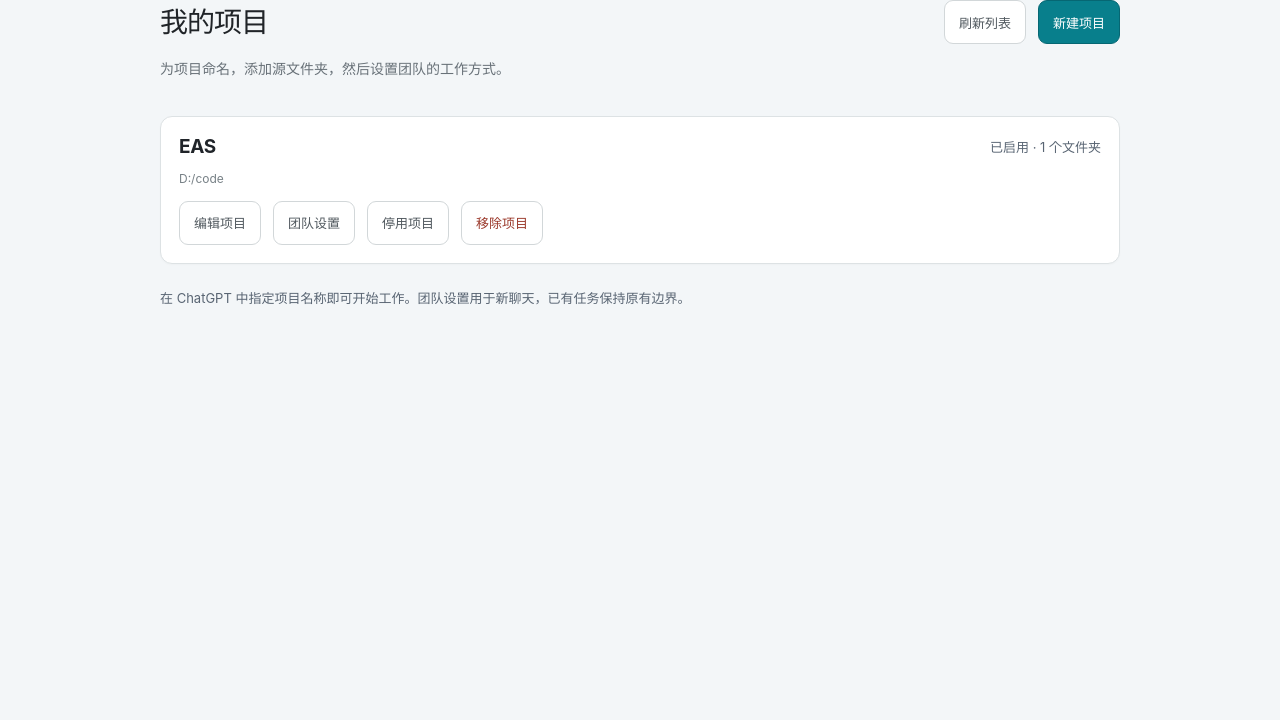
Test case: requires fresh observation after a rejected save and does not automatically retry
Step 1. Click the button "编辑项目" → (220, 223), box [179,201,261,245]
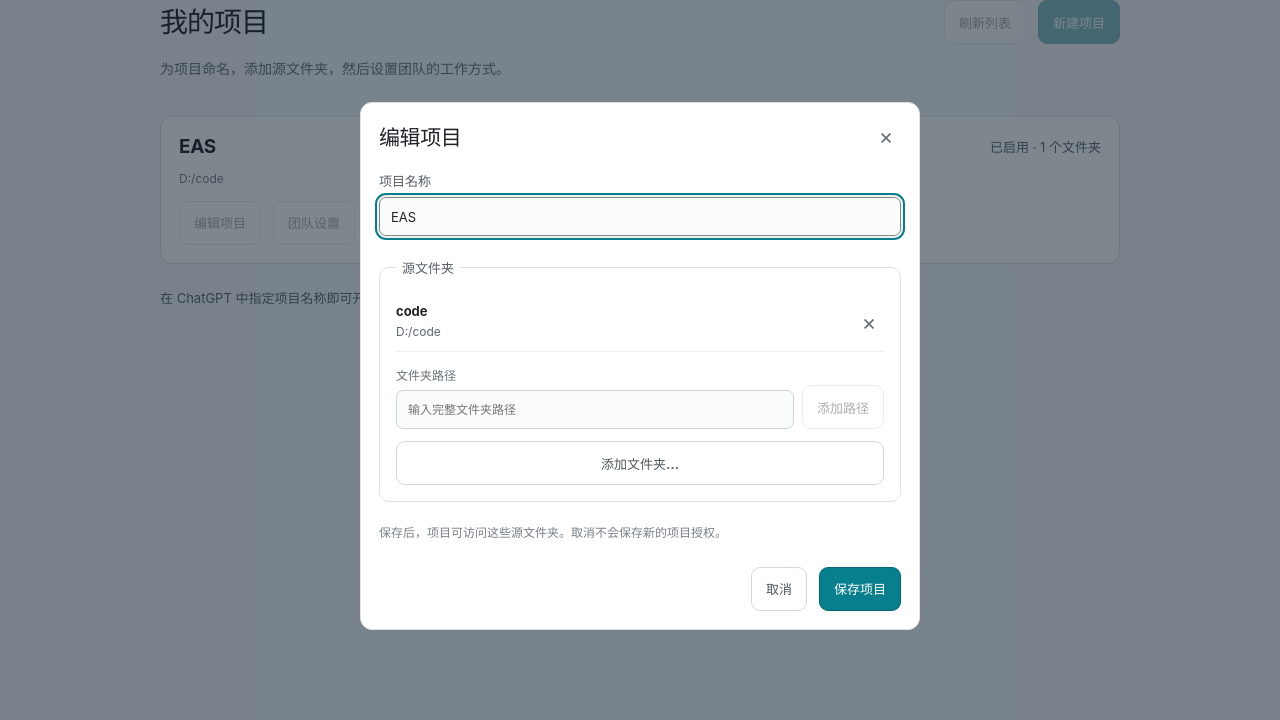
Step 2. Click the button "保存项目" → (860, 589), box [819,567,901,611]
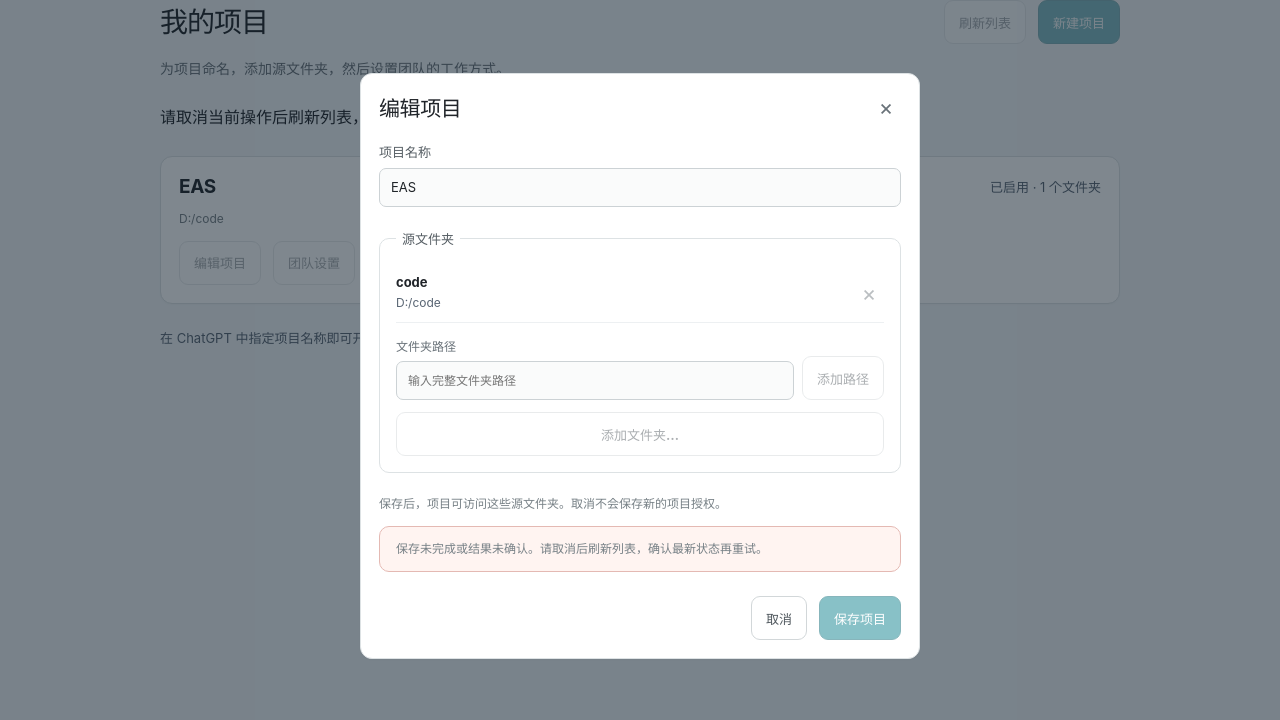
Check: the field labelled "项目名称" holds "EAS", box [379,168,901,207]
Check: the message "保存未完成或结果未确认。请取消后刷新列表，确认最新状态再重试。" is shown, box [379,526,901,572]
Check: the button "保存项目" is disabled, box [819,596,901,640]
Step 3. Click the button "取消" → (779, 618), box [751,596,807,640]
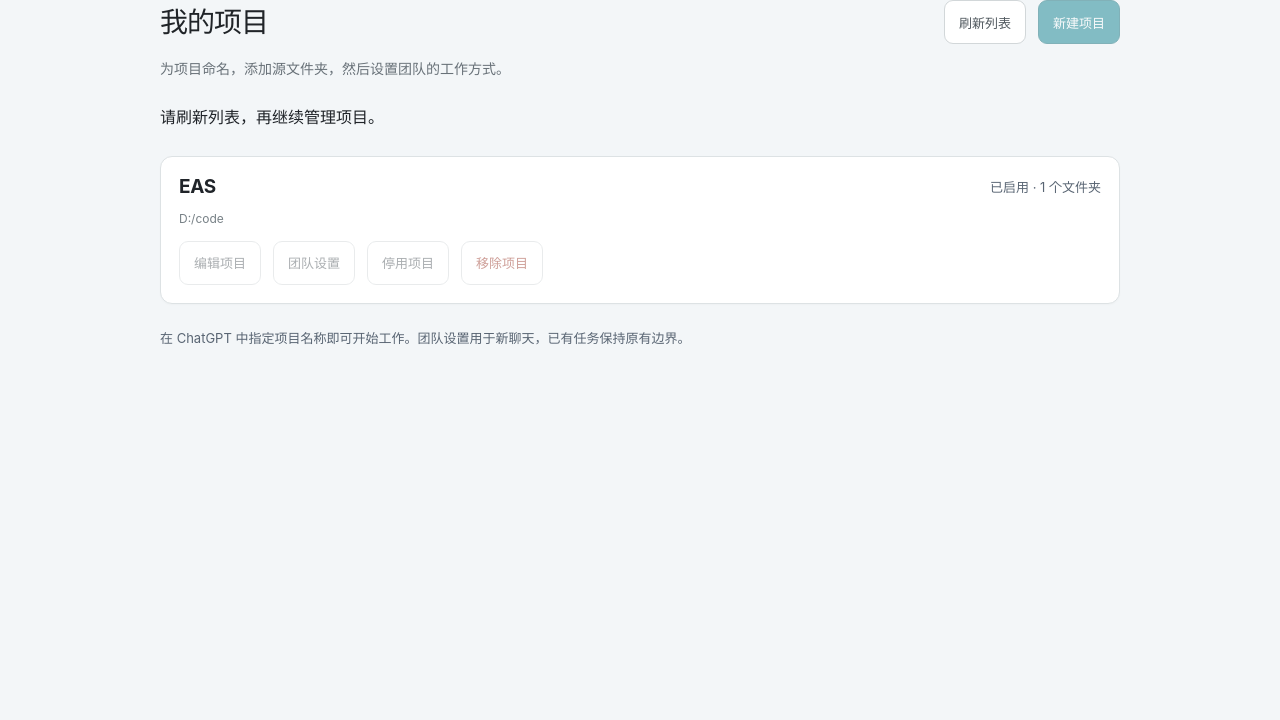
Check: the button "新建项目" is disabled, box [1038,0,1120,44]
Step 4. Click the button "刷新列表" → (985, 22), box [944,0,1026,44]
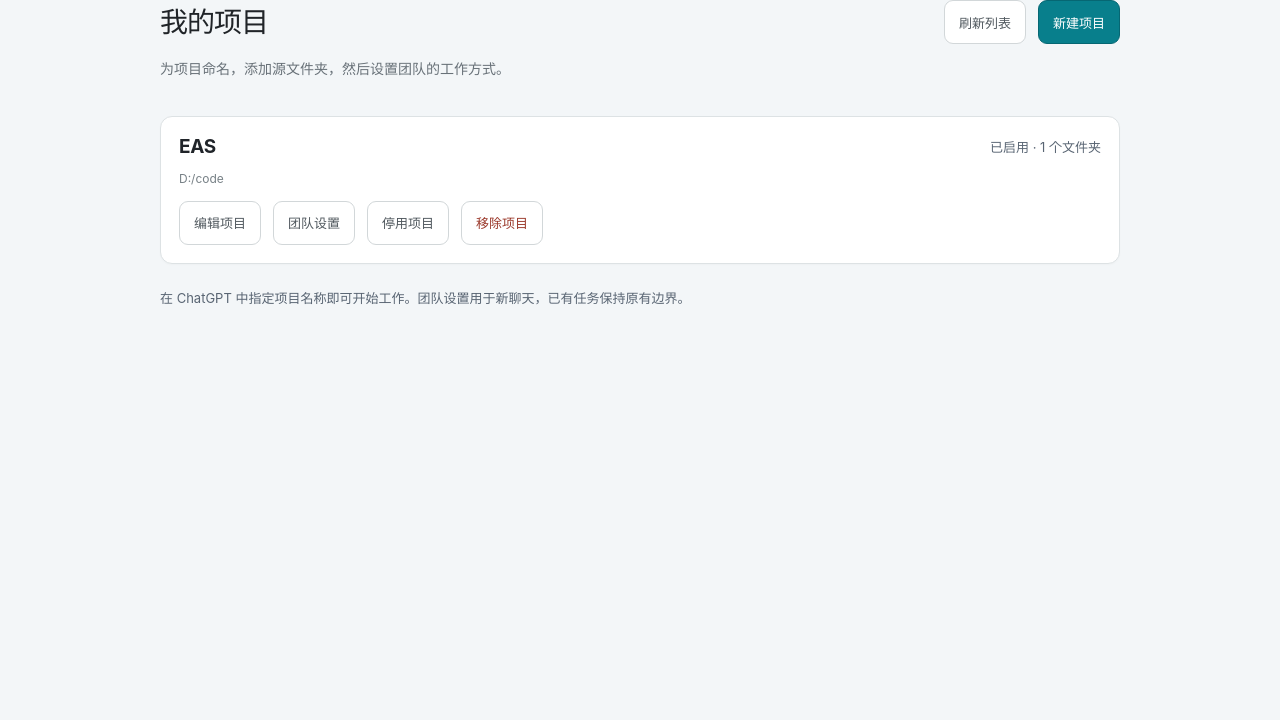
Check: the button "新建项目" is enabled, box [1038,0,1120,44]
